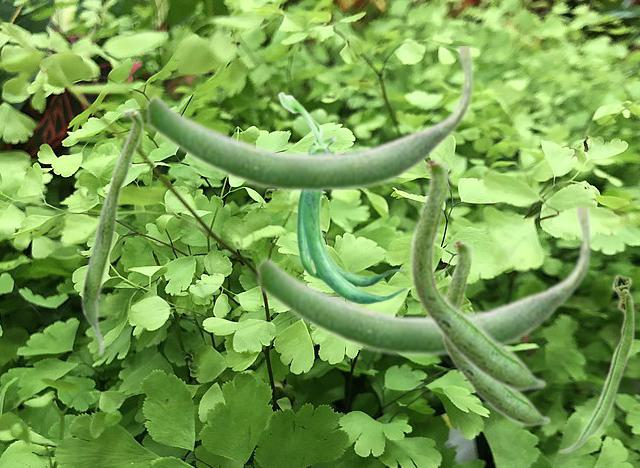french_bean: (255, 207, 592, 358), (144, 46, 474, 194), (409, 155, 546, 391), (277, 91, 407, 304), (440, 237, 550, 426), (80, 107, 143, 357), (558, 273, 634, 453)
